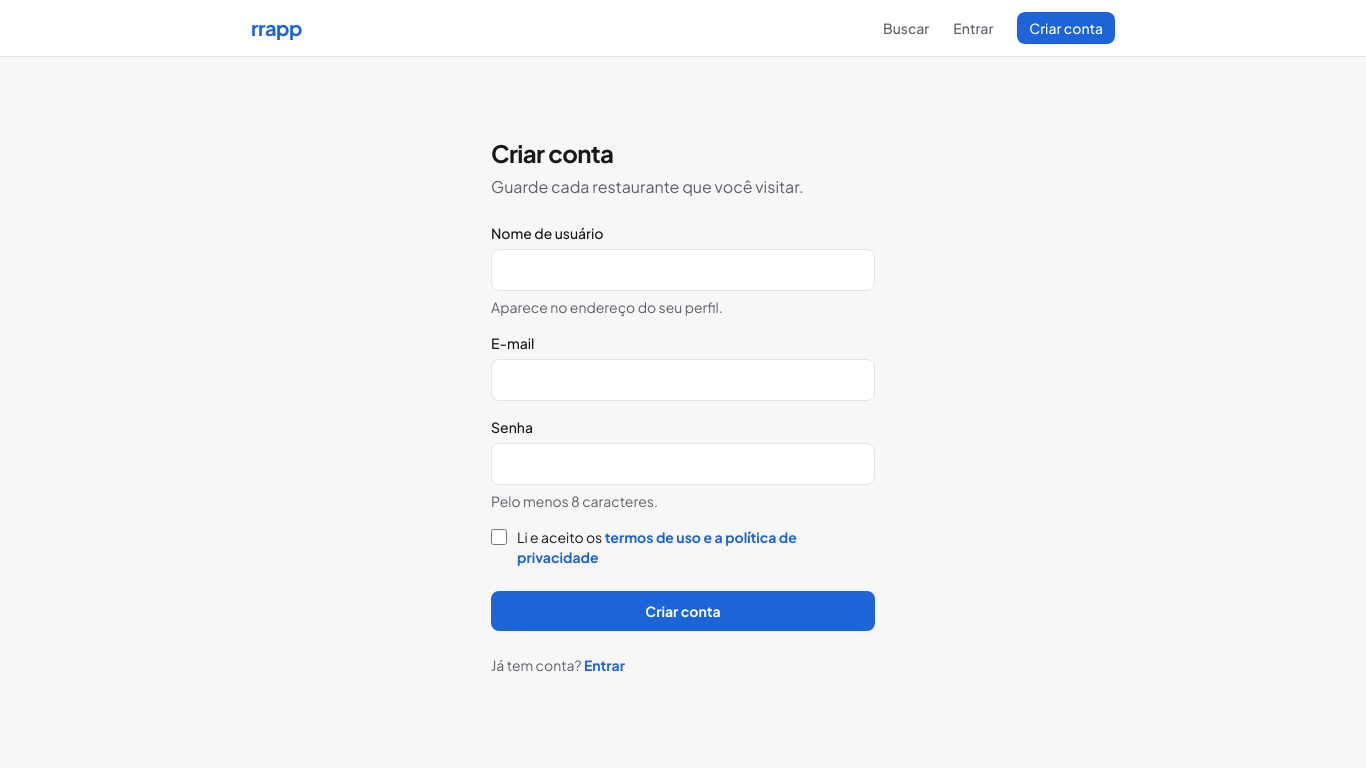
Test: cria a conta e entra
Type "ana" into the field labelled "Nome de usuário". click: (683, 270)
box: [491,249,875,291]
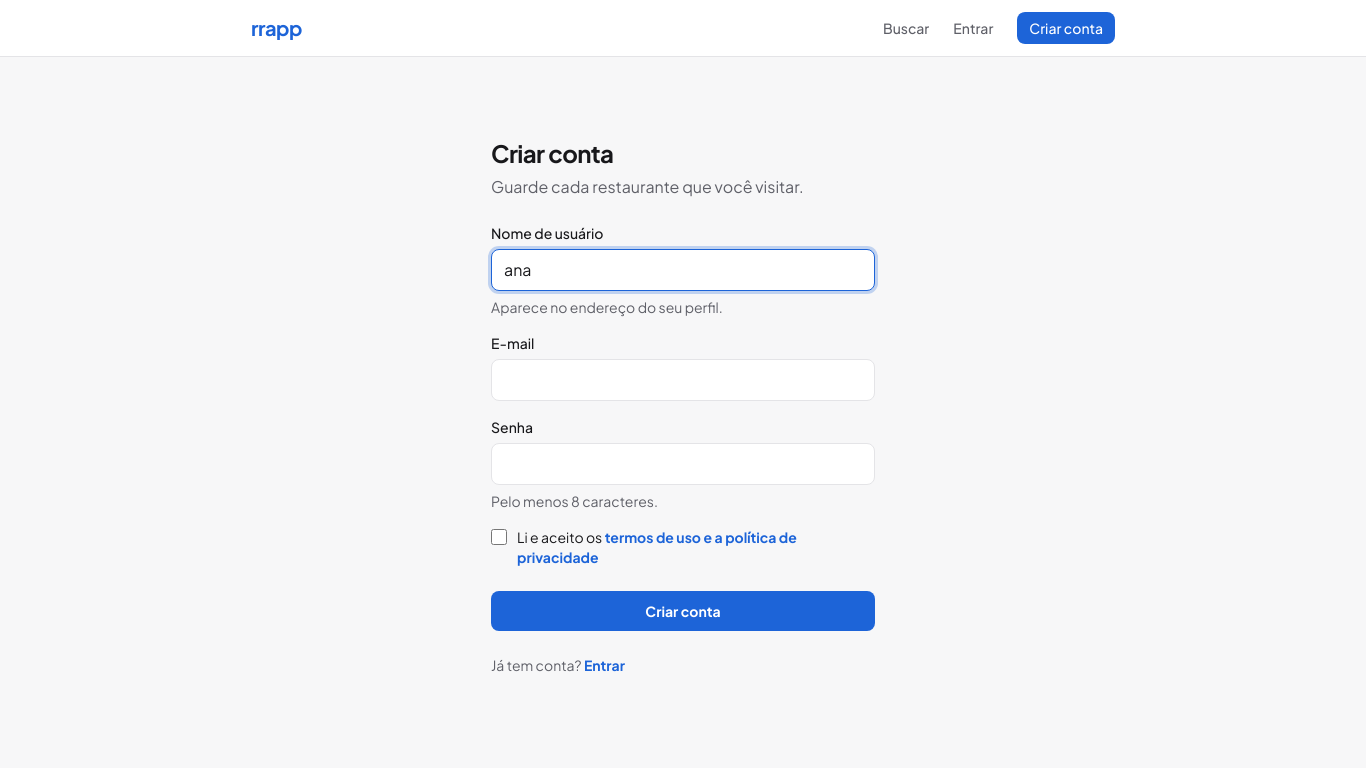
Type "ana@example.com" into the field labelled "E-mail". click: (683, 380)
box: [491,359,875,401]
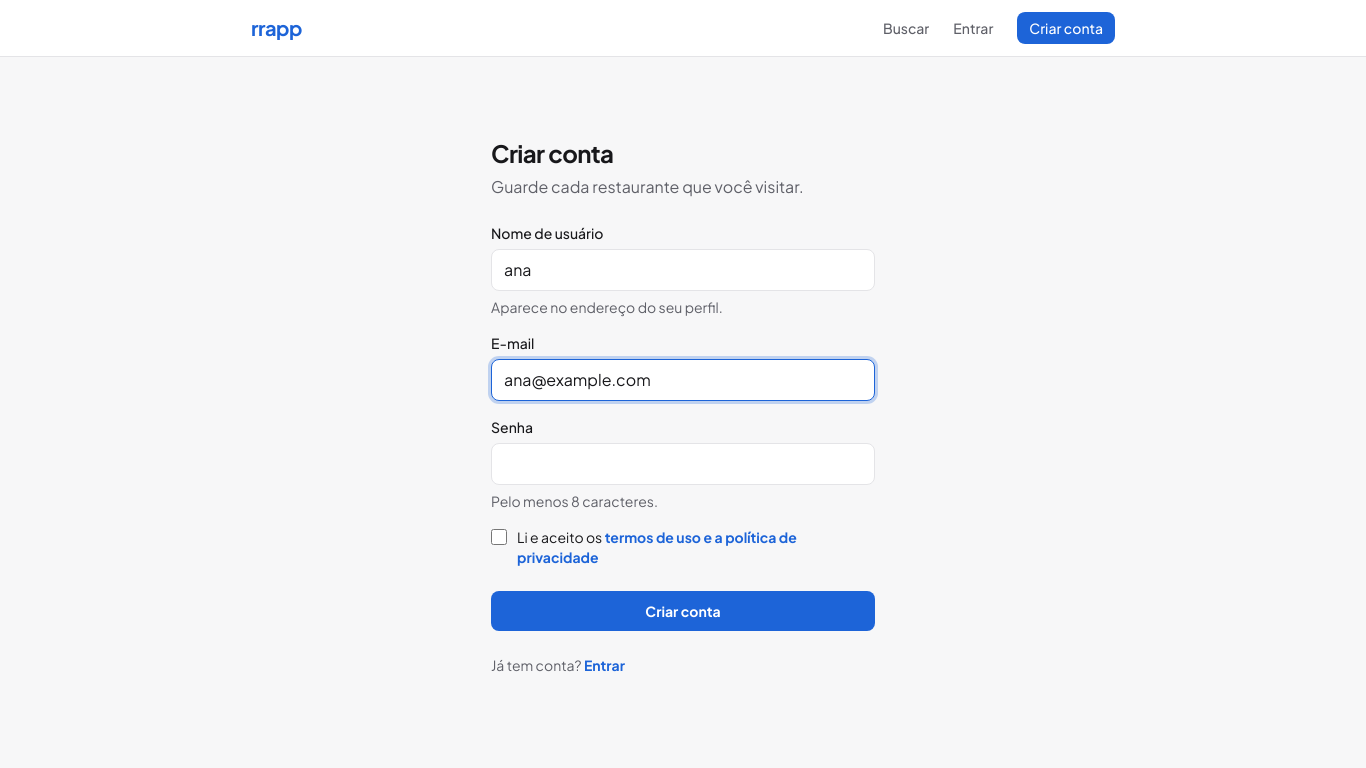
Type "uma-senha-bem-forte" into the password field labelled "Senha". click: (683, 464)
box: [491,443,875,485]
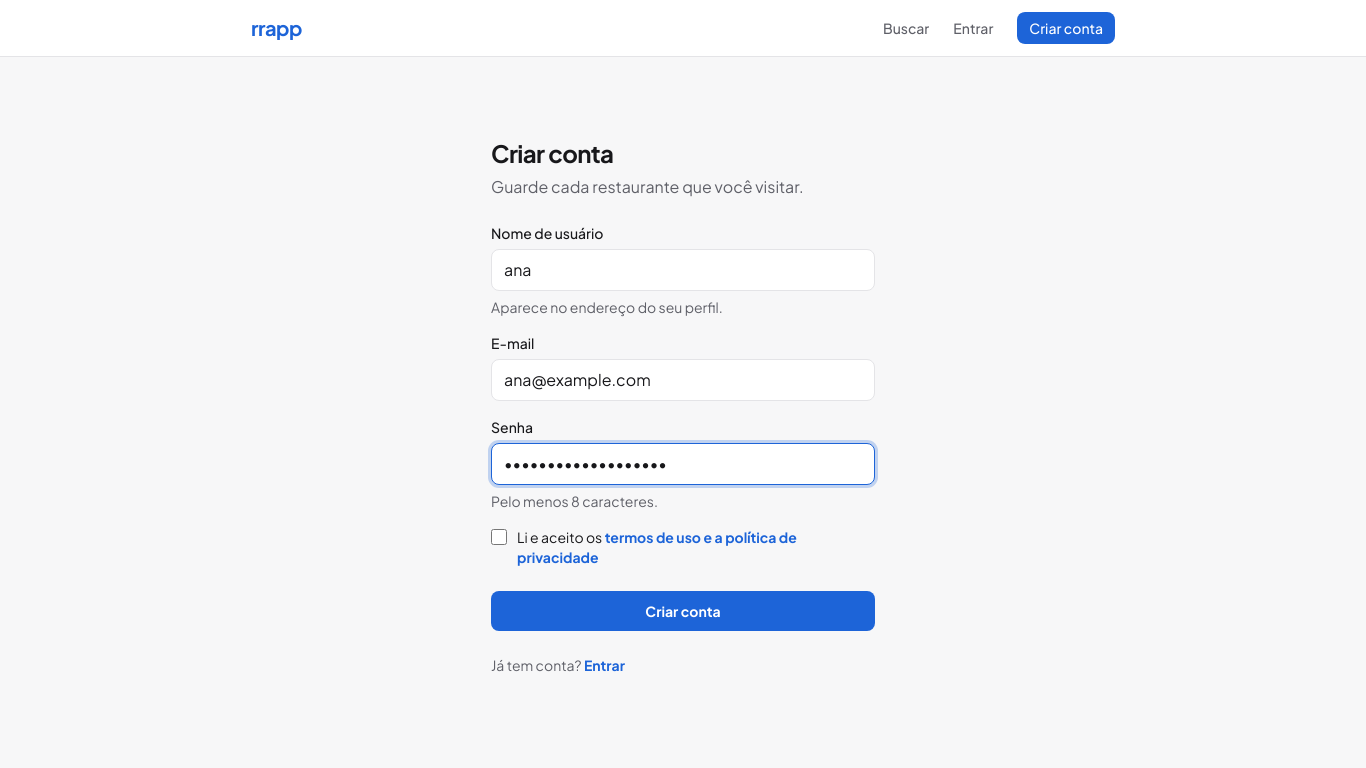
Click the checkbox labelled "Li e aceito os termos de uso e a política de privacidade". click: (499, 537)
box: [491,529,507,545]
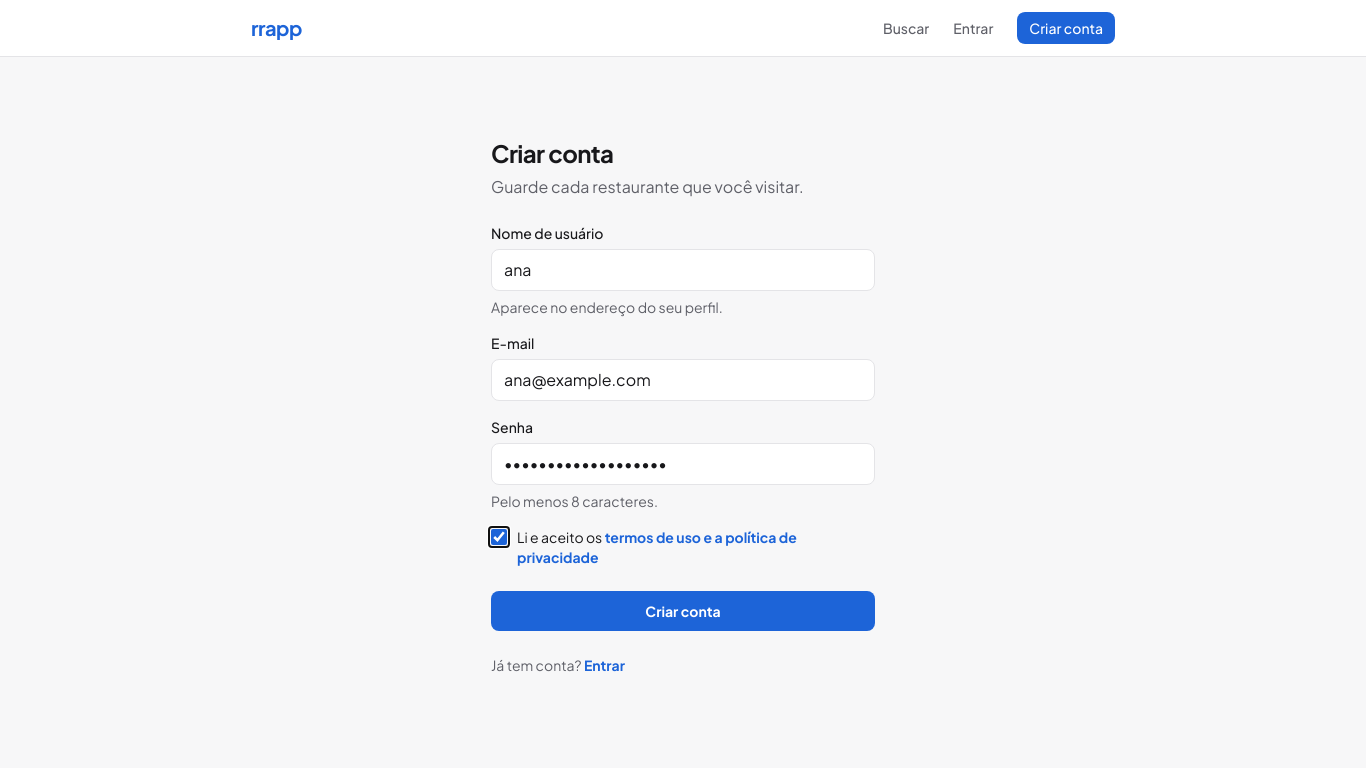
Click the button "Criar conta". click: (683, 611)
box: [491,591,875,631]
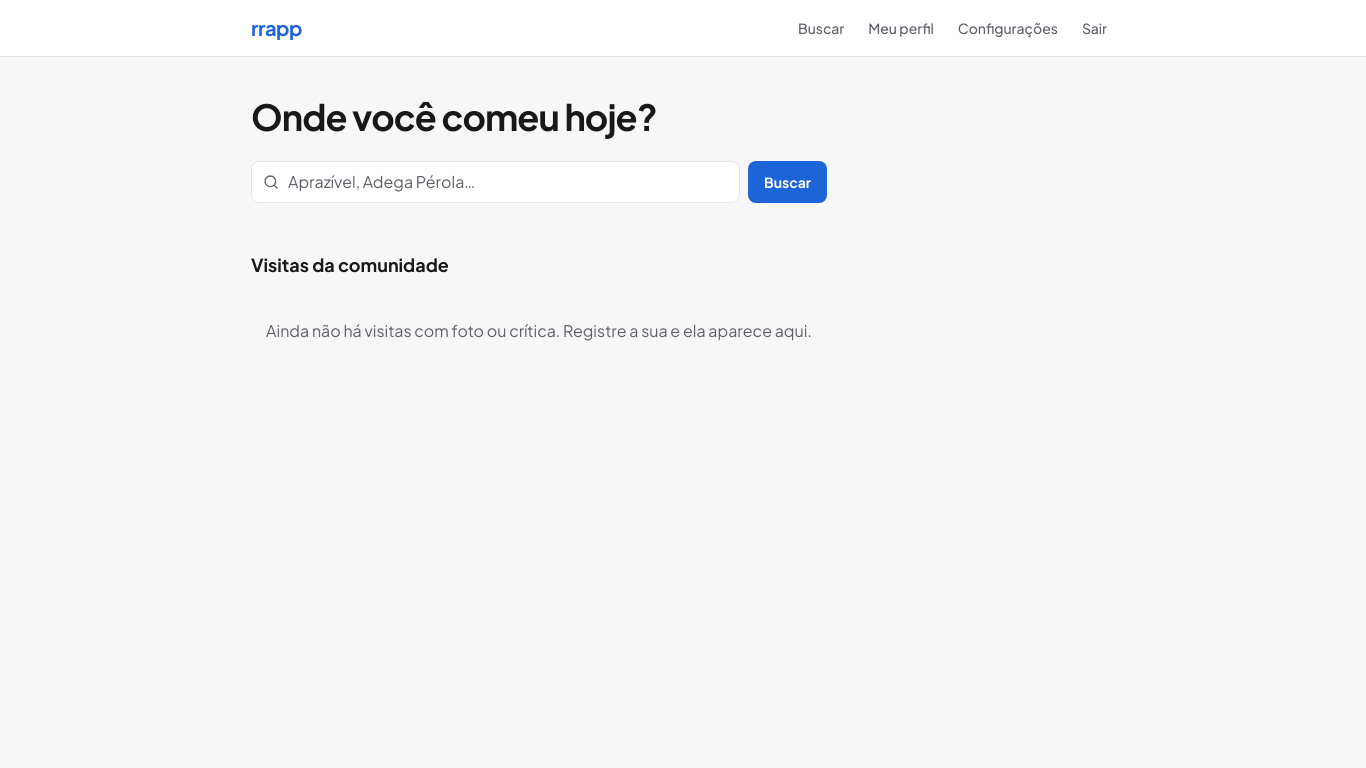
expect the heading "Onde você comeu hoje?" is shown: met, box [251,94,657,139]
